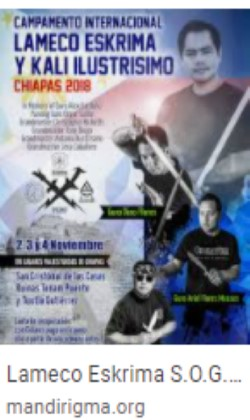baston_e: (200, 89, 246, 186), (146, 140, 199, 197)
